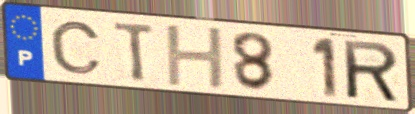1: (309, 36, 341, 100)
8: (229, 30, 278, 94)
C: (47, 19, 105, 76)
H: (162, 24, 229, 90)
R: (340, 38, 402, 105)
T: (111, 20, 158, 83)
